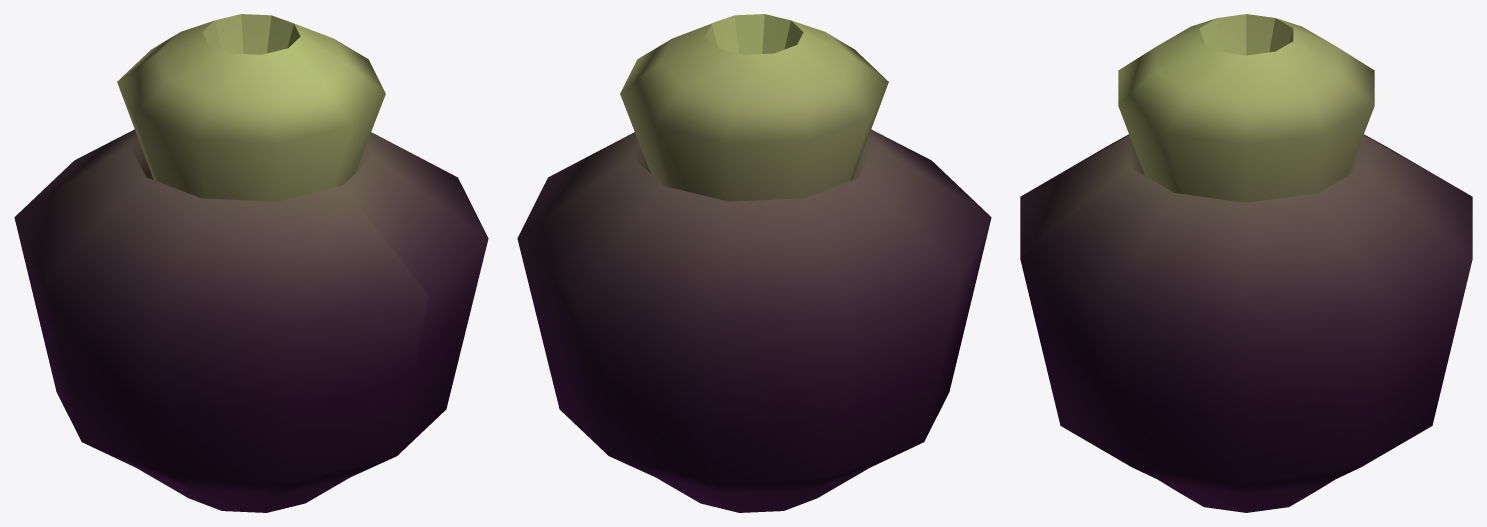
Rendered from Coral05.fbx.
3 views of the same model, side by side, from view 1: azimuth 30°, elevation 25°; view 2: azimuth 150°, elevation 25°; view 3: azimuth 270°, elevation 25° (orthographic).
Parts seen in each view (by area): view 1: pCylinder1; view 2: pCylinder1; view 3: pCylinder1.
Part boxes in pixels (x1,y1,x2,y2): pCylinder1: (14, 14, 488, 512); pCylinder1: (517, 14, 991, 512); pCylinder1: (1020, 14, 1472, 512).
Bounding box in the file's own units: 1.85 × 1.92 × 1.76.
